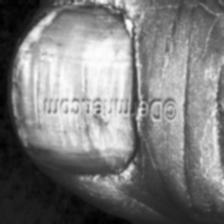Toxin: (12, 57, 108, 142)
